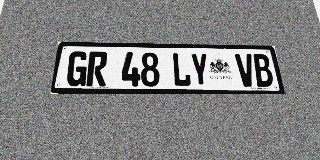4: (121, 52, 140, 86)
8: (141, 52, 159, 86)
B: (252, 54, 275, 87)
G: (65, 51, 89, 86)
L: (172, 53, 191, 86)
R: (86, 51, 108, 86)
V: (235, 54, 257, 87)
Y: (190, 53, 210, 87)
